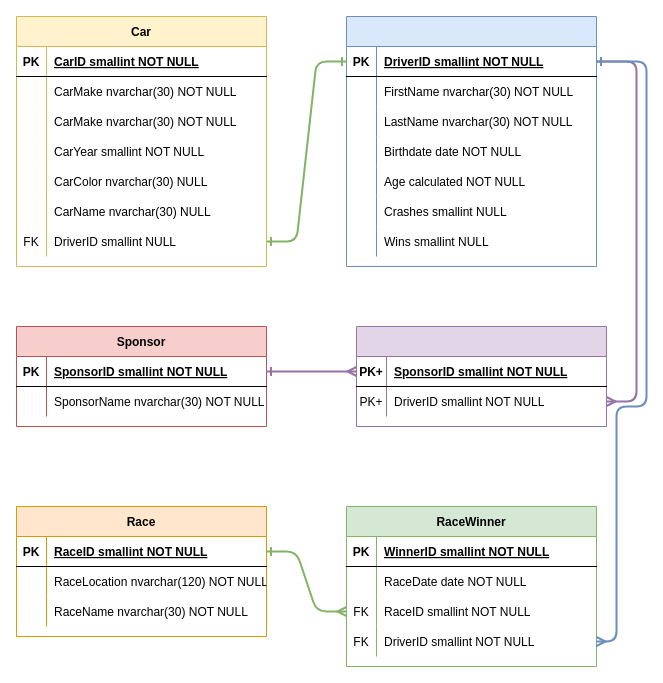
The diagram is 663 pixels wide and 683 high, and some of its shapes have lost their labels. The shapes that lost their labels are listed below. From the top down, each one's box as (x1, y1, x2, y2) in pixels, then its label:
(346, 16, 596, 266): Drivers
(356, 326, 606, 426): SponsorDriver
